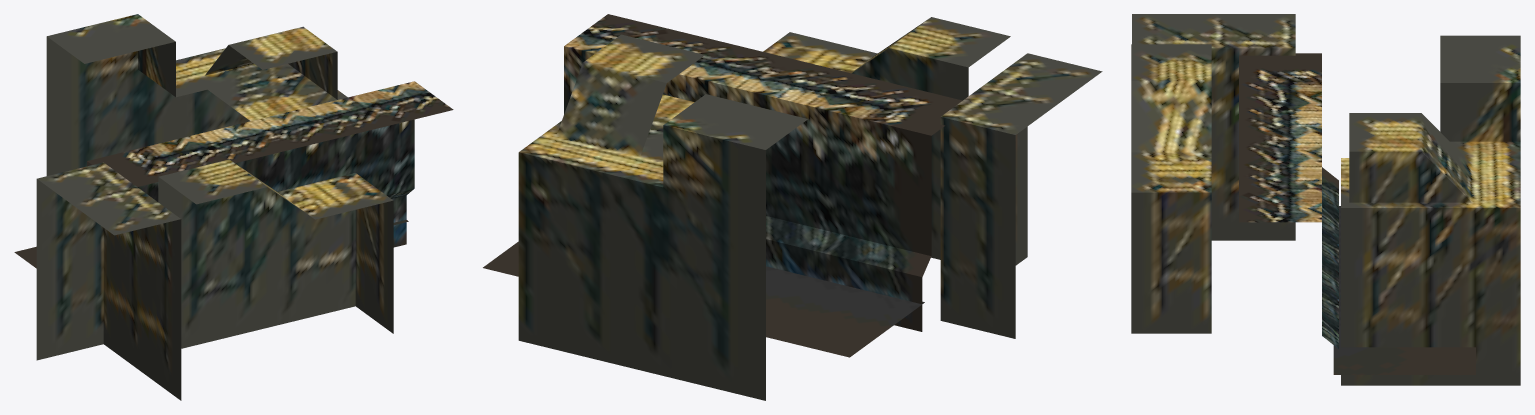
File: F_GuildRampart_01.fbx
The picture shows the model from 3 angles, left to right: view 1: azimuth 30°, elevation 25°; view 2: azimuth 150°, elevation 25°; view 3: azimuth 270°, elevation 25°; orthographic projection. The views are drawn at different scales.
Parts seen in each view (by area): view 1: T_BuildForm_03, T_BuildForm_01, T_BuildForm_02, F_GuildRampart_01; view 2: T_BuildForm_01, F_GuildRampart_01, T_BuildForm_02, T_BuildForm_03; view 3: T_BuildForm_01, T_BuildForm_03, F_GuildRampart_01, T_BuildForm_02.
Part boxes in pixels (x1,y1,x2,y2): T_BuildForm_03: [158, 159, 393, 348]; T_BuildForm_01: [46, 14, 347, 175]; T_BuildForm_02: [36, 162, 181, 400]; F_GuildRampart_01: [14, 81, 453, 268]; T_BuildForm_01: [518, 34, 807, 400]; F_GuildRampart_01: [483, 14, 962, 357]; T_BuildForm_02: [940, 53, 1102, 338]; T_BuildForm_03: [763, 17, 1010, 259]; T_BuildForm_01: [1341, 35, 1520, 385]; T_BuildForm_03: [1131, 44, 1211, 333]; F_GuildRampart_01: [1239, 53, 1475, 374]; T_BuildForm_02: [1132, 14, 1295, 240].
Bounding box in the file's own units: 0.7197 × 0.3941 × 0.5882.
2 materials, 2 textured.
